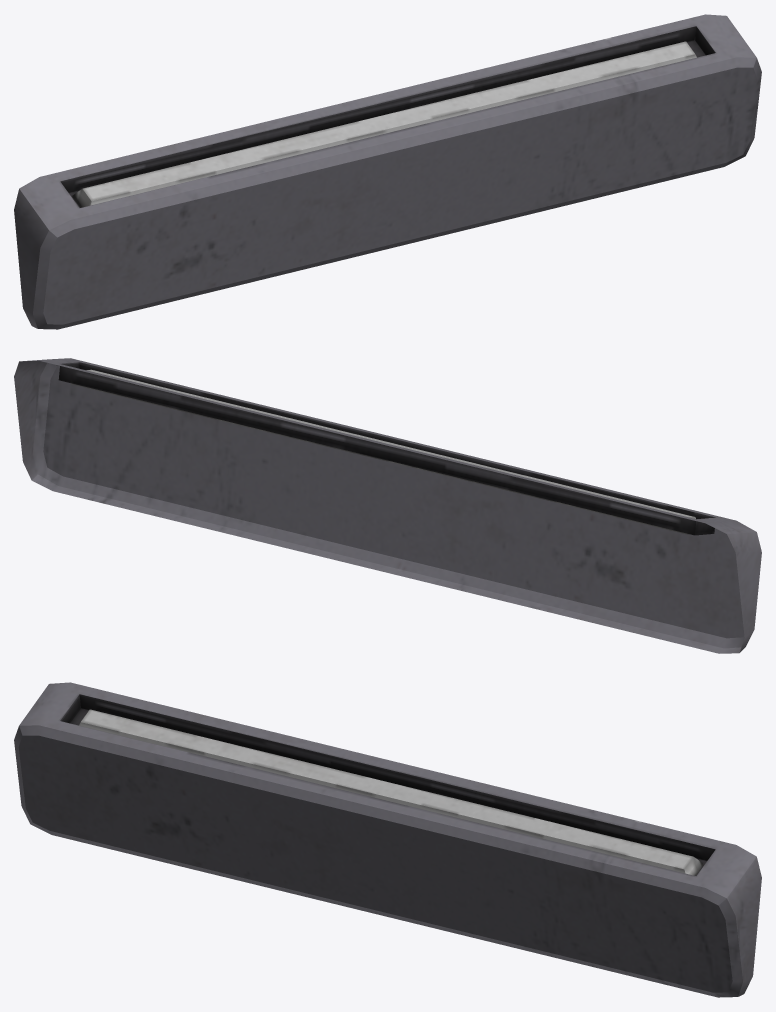
Rendered from Light.fbx.
The picture shows the model from 3 angles, top to bottom: view 1: azimuth 30°, elevation 25°; view 2: azimuth 150°, elevation 25°; view 3: azimuth 330°, elevation 25°; orthographic projection.
Visible parts, largest first — view 1: light; view 2: light; view 3: light.
Part boxes in pixels (x1,y1,x2,y2): light: [14, 14, 761, 329]; light: [14, 358, 761, 653]; light: [14, 682, 761, 997].
Size of the model in its own units: 44.18 by 8.22 by 3.54.
